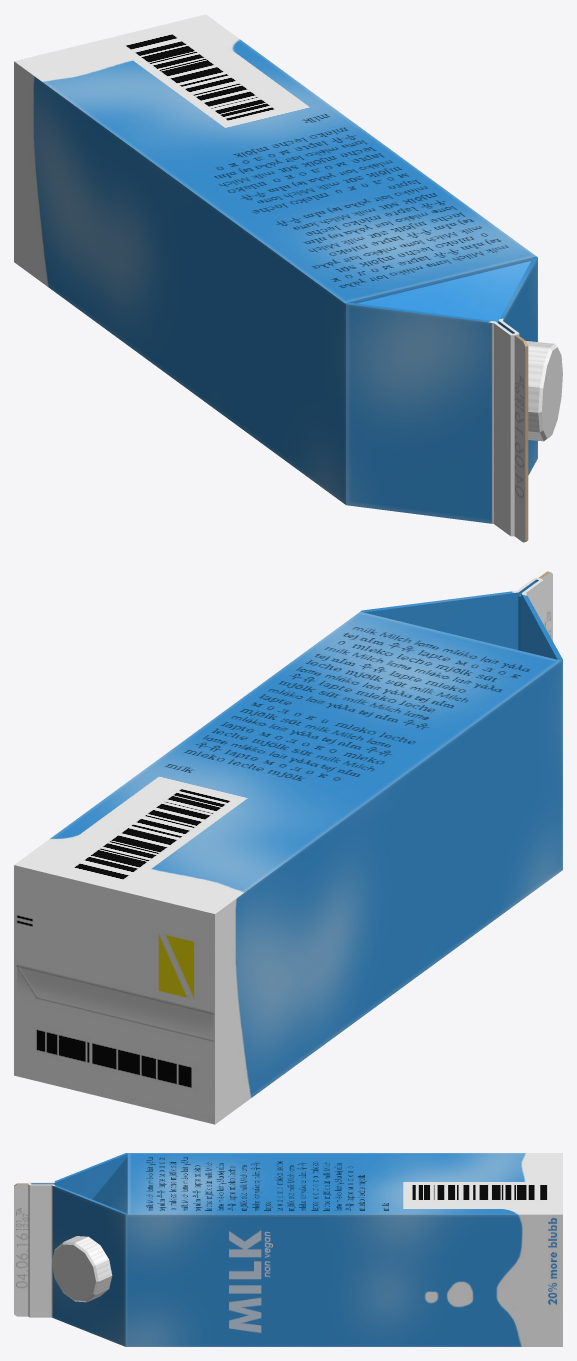
Rendered from milk.glb.
3 views of the same model, one above another, from view 1: azimuth 30°, elevation 25°; view 2: azimuth 150°, elevation 25°; view 3: azimuth 270°, elevation 25° (orthographic). The views are drawn at different scales.
Visible parts, largest first — view 1: Tetra Rex; view 2: Tetra Rex; view 3: Tetra Rex.
Boxes of the visible parts, x1=… form: Tetra Rex: x1=14, y1=14, x2=562, y2=542; Tetra Rex: x1=14, y1=571, x2=562, y2=1124; Tetra Rex: x1=14, y1=1153, x2=562, y2=1346.
Bounding box in the file's own units: 0.0683 × 0.0675 × 0.2538.
1 material, 1 textured.
